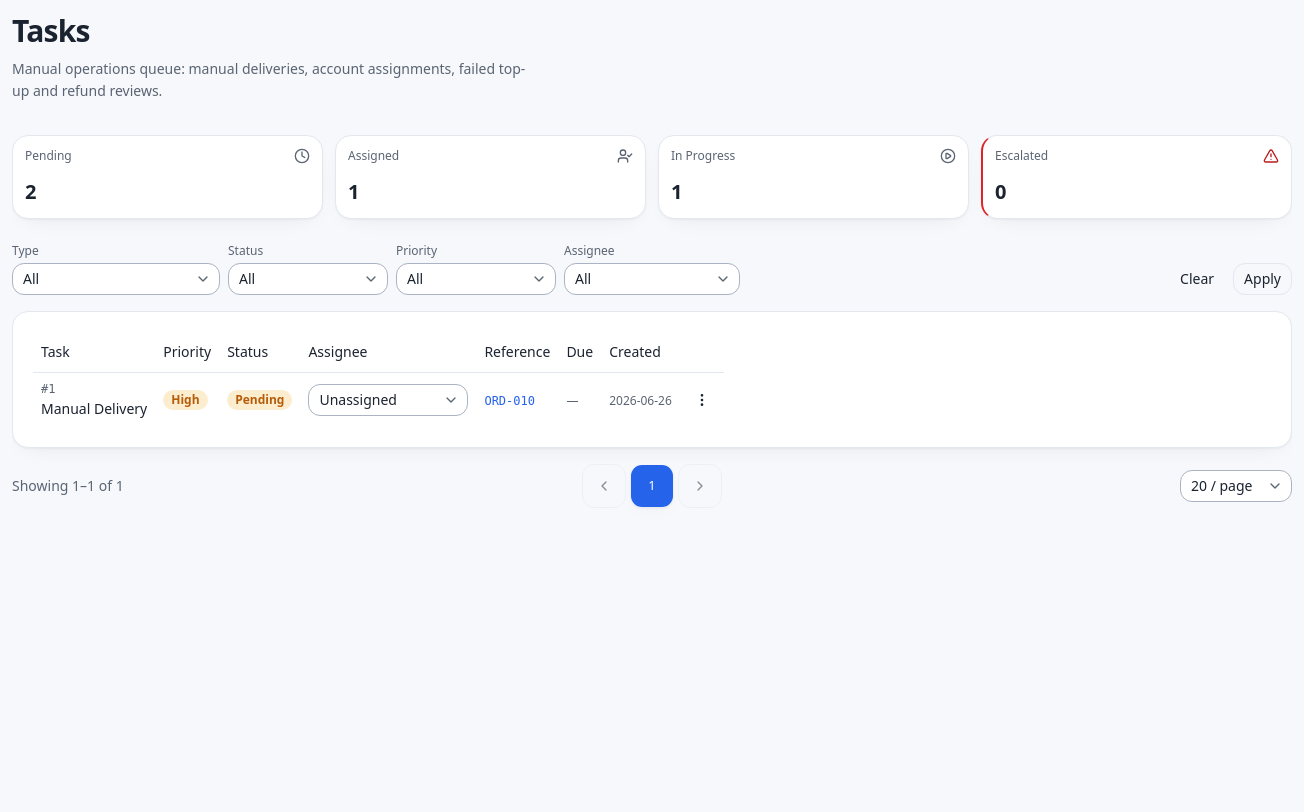
Test case: TasksPage › Assignee column: a PENDING/ESCALATED task's Select posts {from, assignedTo} to /:taskId/assign
Expected: the text "Manual Delivery" is shown, [41,398,147,418]
Click the dropdown named "Assignee for task #1" at (388, 400), box [308,384,468,416]
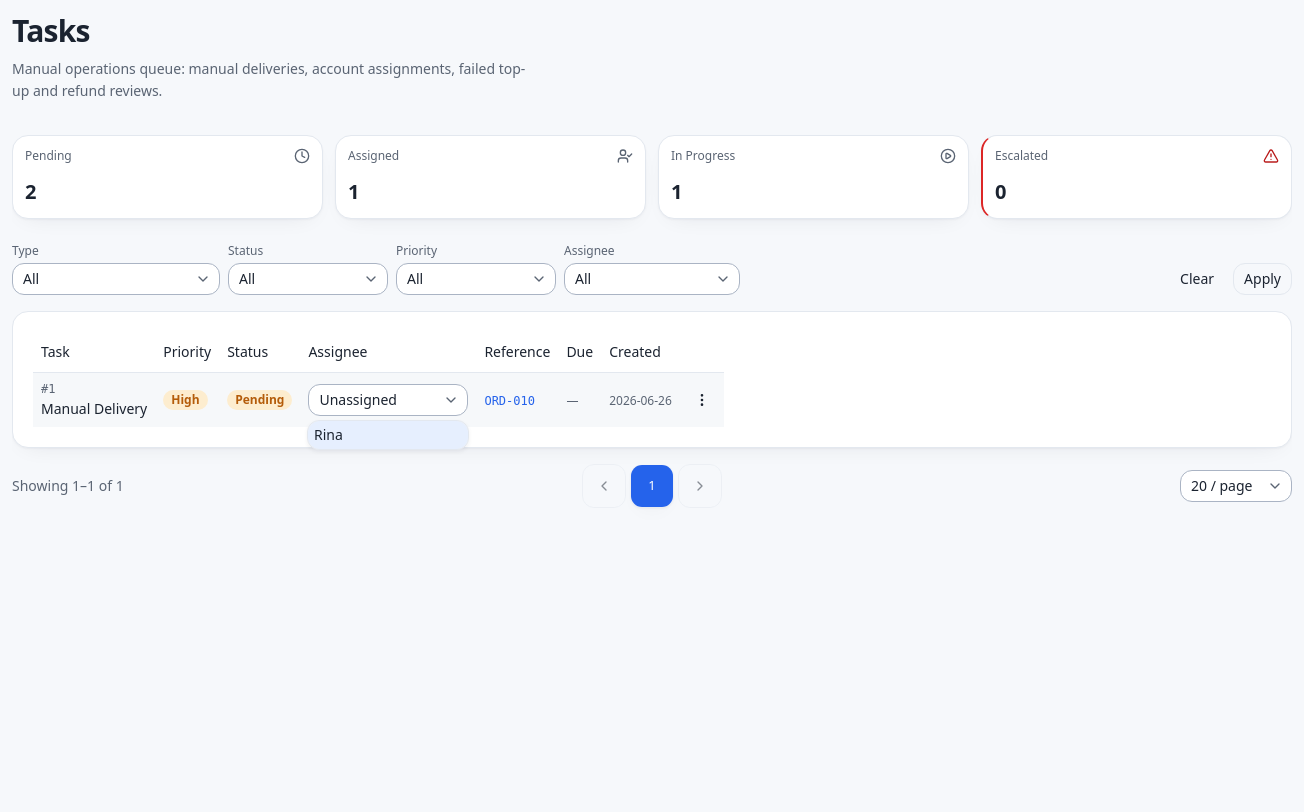
Click the option "Rina" at (388, 435), box [308,421,468,449]
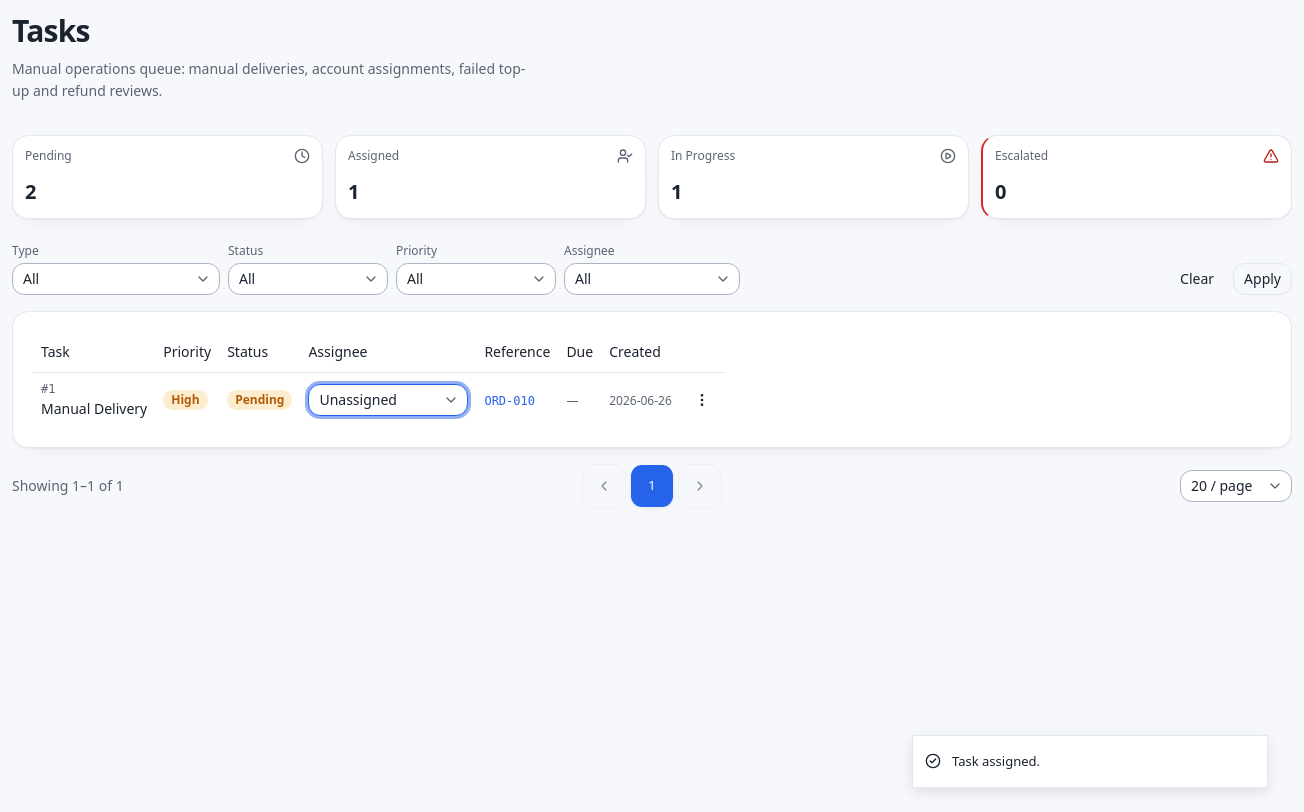
Expected: the text "Task assigned." is shown, [952,752,1040,771]
